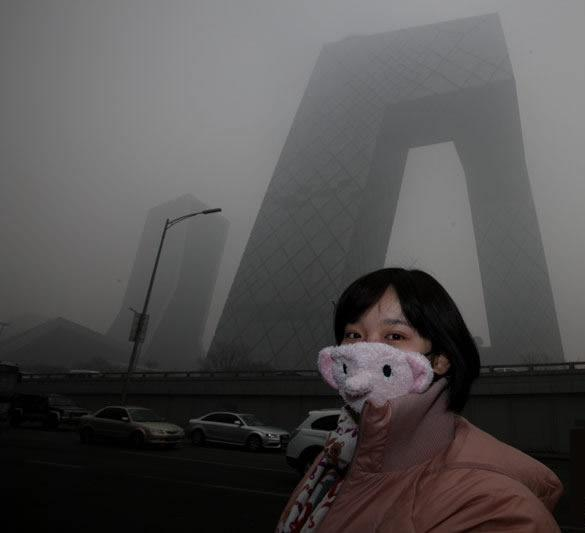car: (285, 407, 396, 478), (75, 403, 184, 451), (184, 410, 291, 454), (11, 388, 94, 433)
person: (271, 265, 563, 533)
